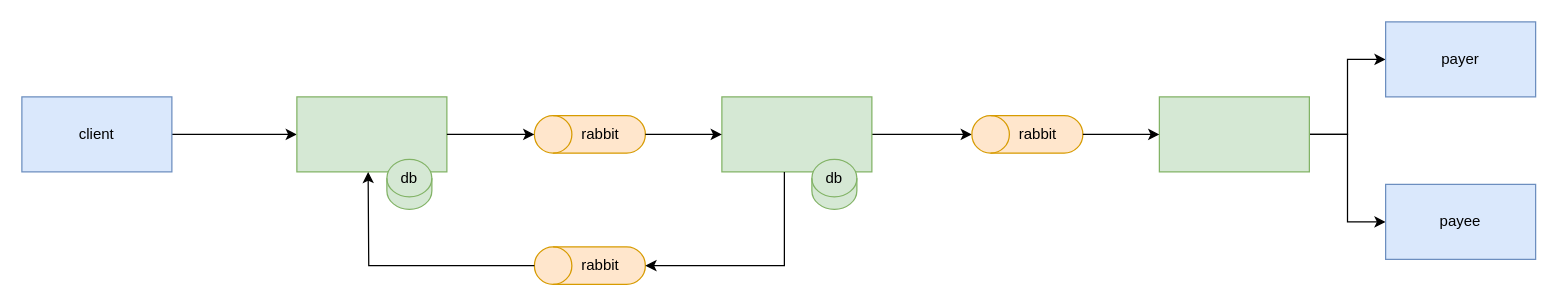
Image size: 1558x306. Some labels were removed from this diagram. The centre of each missing label's shape, as x and y in pixels:
notification-svc: the point at 1233,134
transfer-manager: the point at 371,134
wallet-core: the point at 796,134
